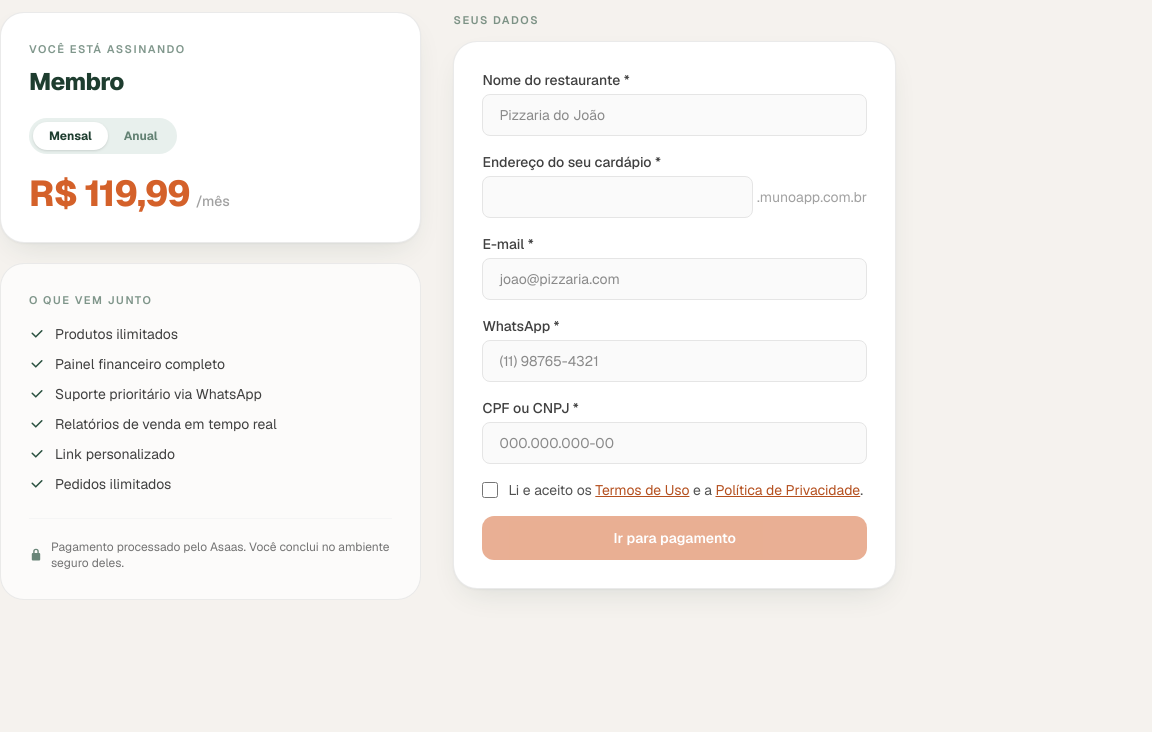
Test: Checkout › trocar o ciclo troca o preço anunciado
Expected: the text "R$ 119,99" is shown, [29,174,190,214]
Click the button "Anual".
click(141, 136)  # box [108,122,174,150]
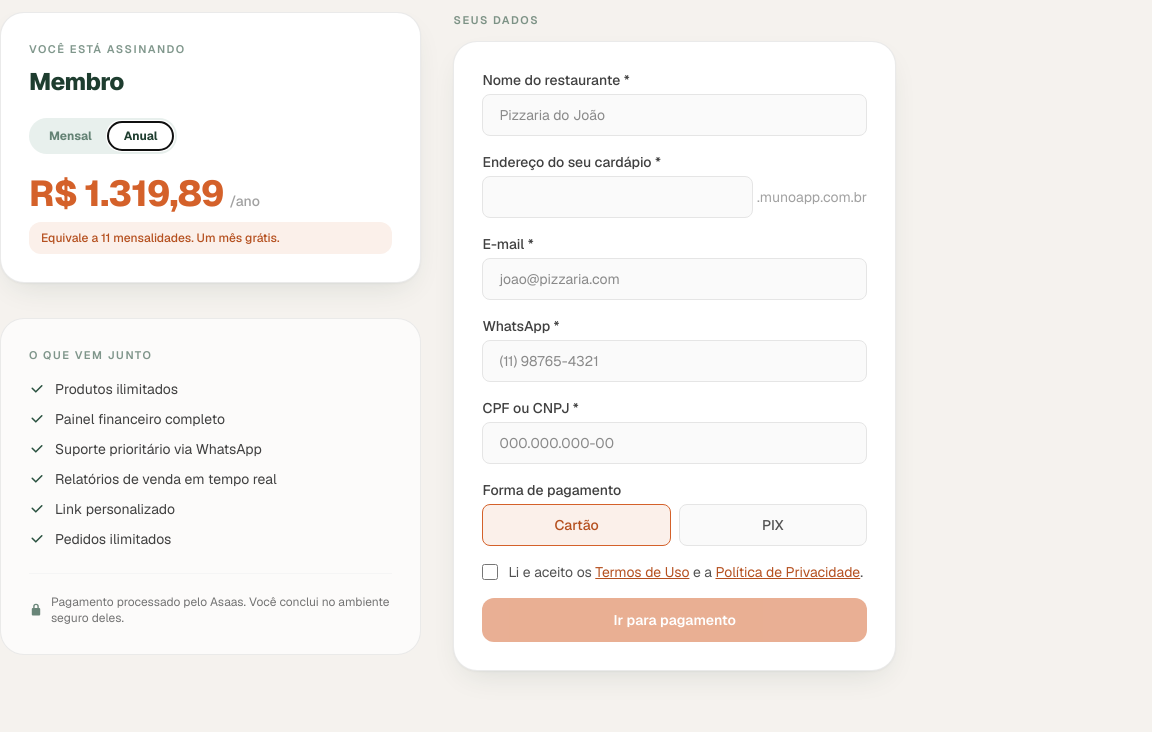
Expected: the text "R$ 1.319,89" is shown, [29,174,224,214]
Expected: the text "R$ 119,99" is gone
